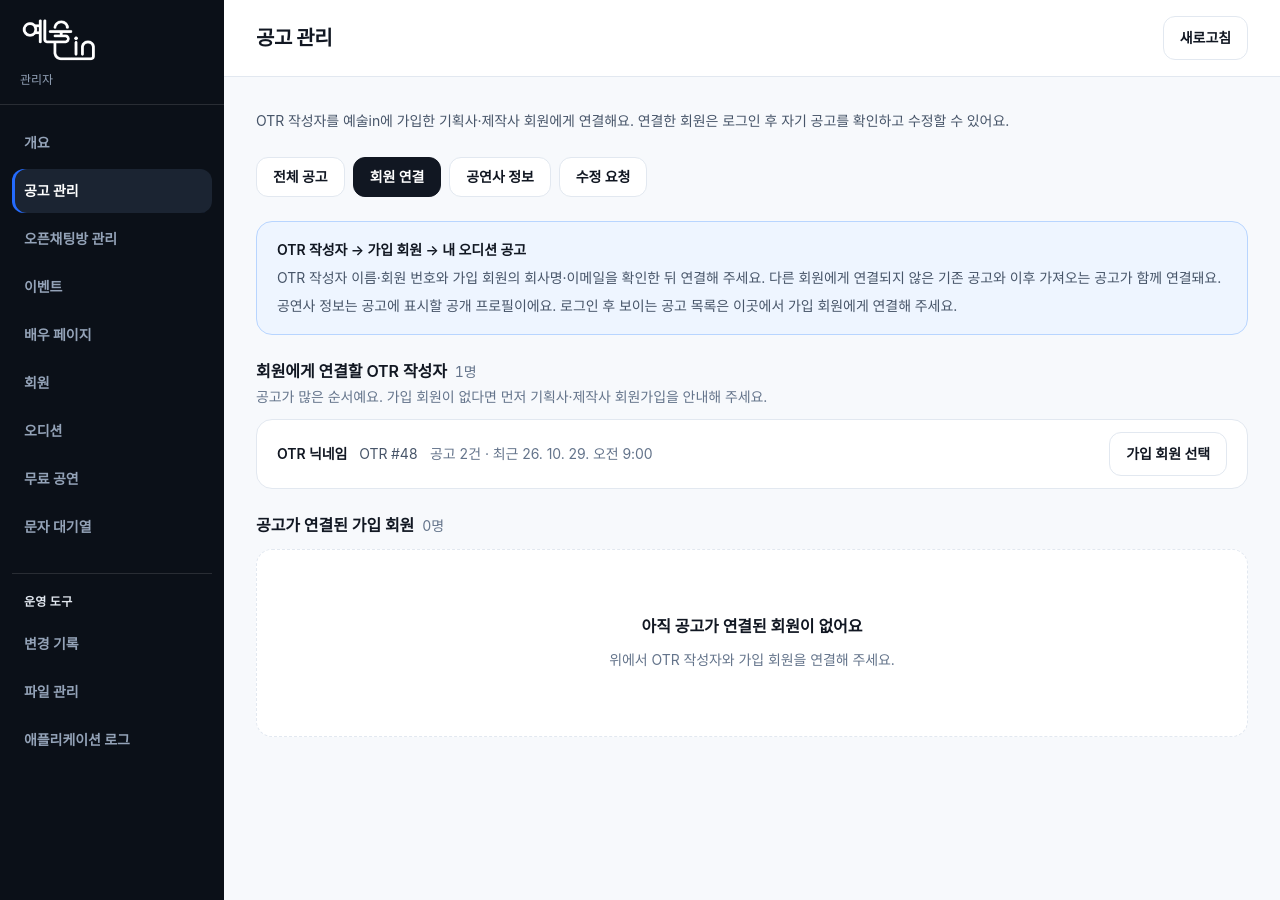
Test: 가입 회원 목록을 못 읽어도 연결 현황은 보이고, 빈 목록 대신 불러오기 오류를 알린다
Expected: the element that starts with "회원에게 연결할 OTR 작성자" shows "OTR 닉네임", [277, 445, 347, 462]
Expected: the element that starts with "공고가 연결된 가입 회원" is shown, [256, 513, 1248, 737]
Click the button "가입 회원 선택".
click(1168, 454)  # box [1109, 432, 1227, 476]
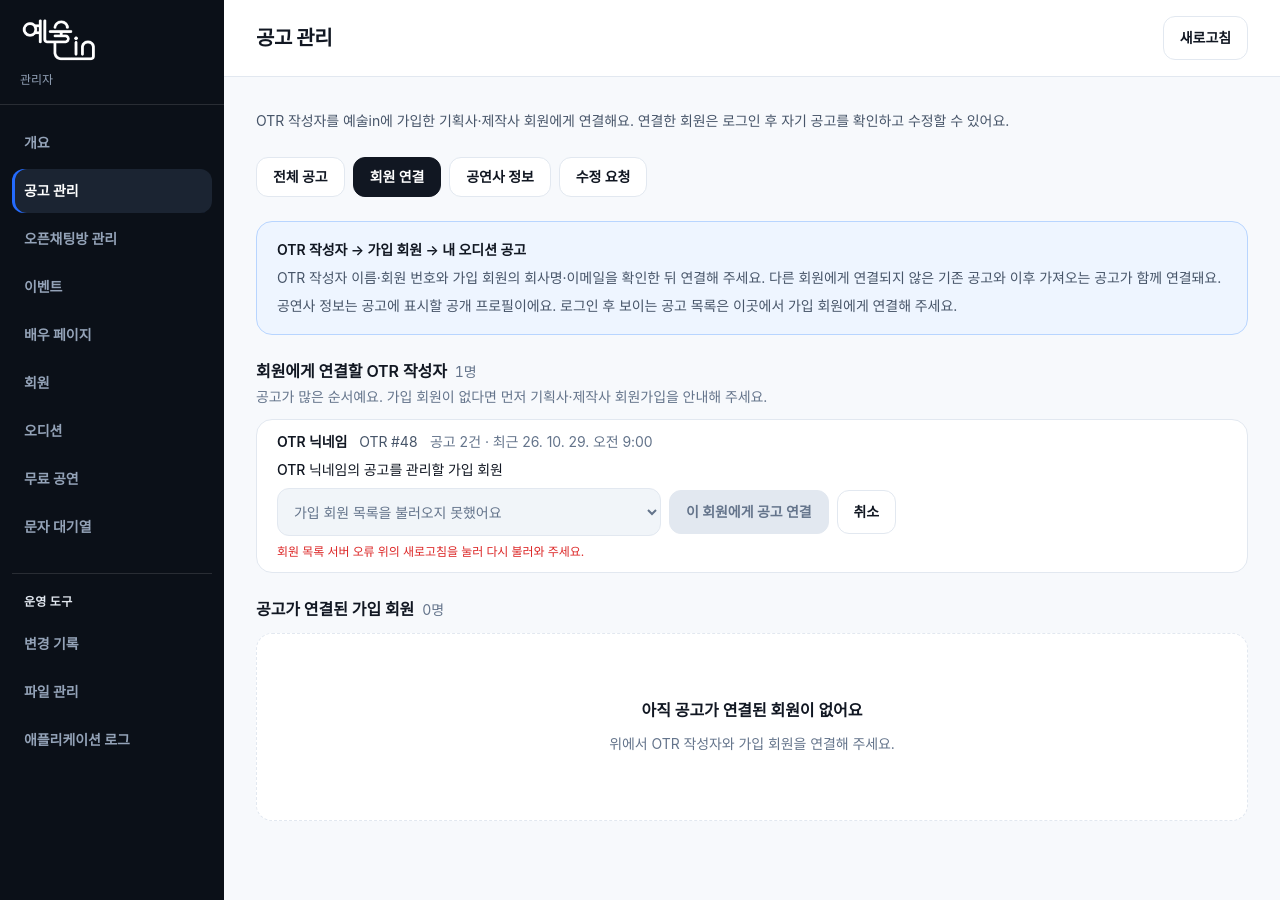
Expected: the dropdown is disabled, [277, 488, 661, 536]
Expected: the message "회원 목록 서버 오류 위의 새로고침을 눌러 다시 불러와 주세요." is shown, [277, 544, 584, 559]
